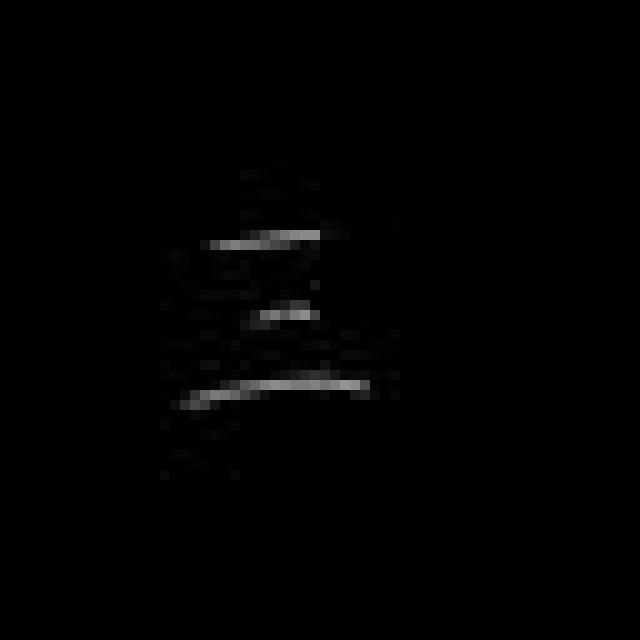3 -three-: (168, 210, 380, 428)
